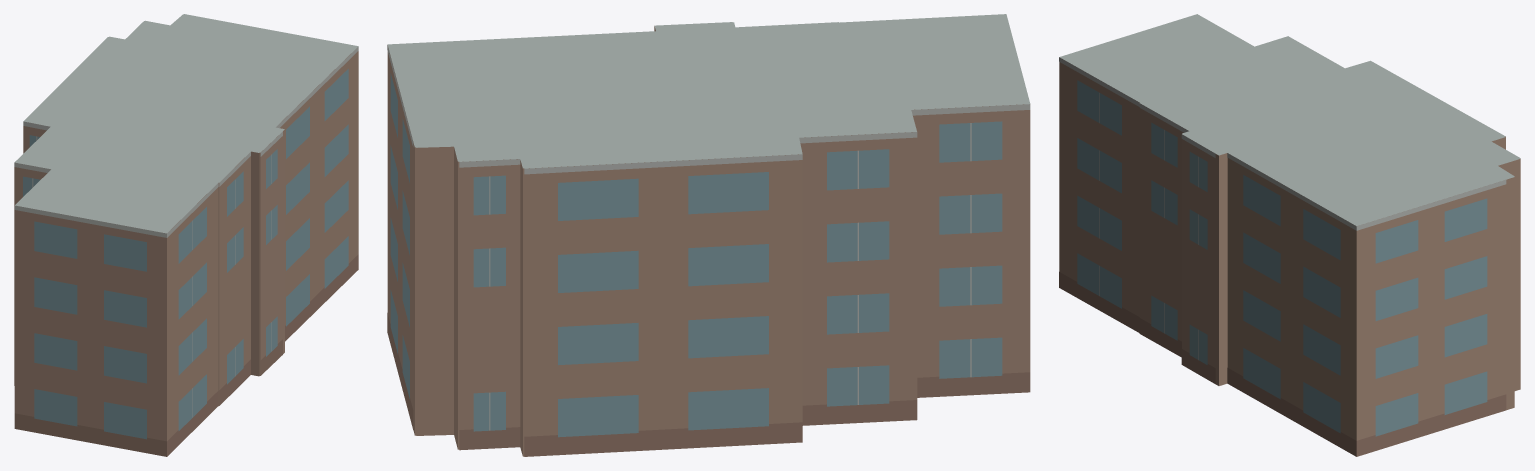
The model's file is survey-upis-32631694.glb.
3 views of the same model, side by side, from view 1: azimuth 30°, elevation 25°; view 2: azimuth 150°, elevation 25°; view 3: azimuth 270°, elevation 25° (orthographic). The views are drawn at different scales.
Parts seen in each view (by area): view 1: survey-upis-32631694.tmp; view 2: survey-upis-32631694.tmp; view 3: survey-upis-32631694.tmp.
Part boxes in pixels (left/top/right/bottom): survey-upis-32631694.tmp: left=14, top=14, right=358, bottom=456; survey-upis-32631694.tmp: left=387, top=14, right=1030, bottom=456; survey-upis-32631694.tmp: left=1059, top=14, right=1520, bottom=456.
Bounding box in the file's own units: 24.08 × 12.2 × 22.13.
